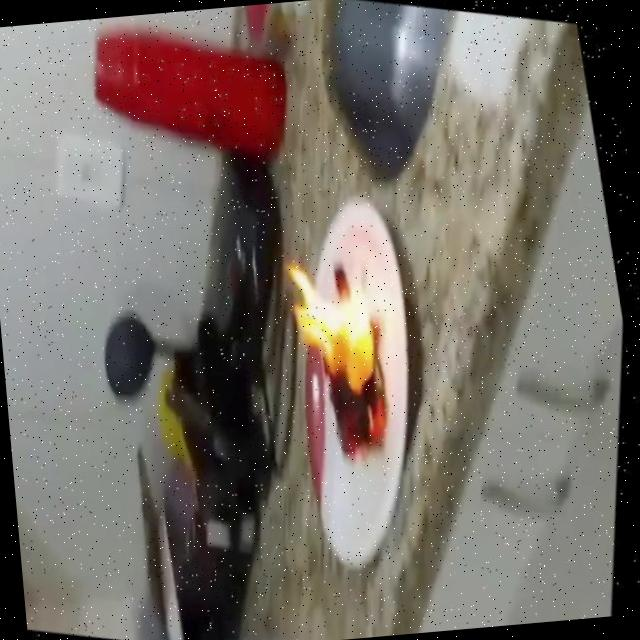fire: (250, 243, 427, 480)
